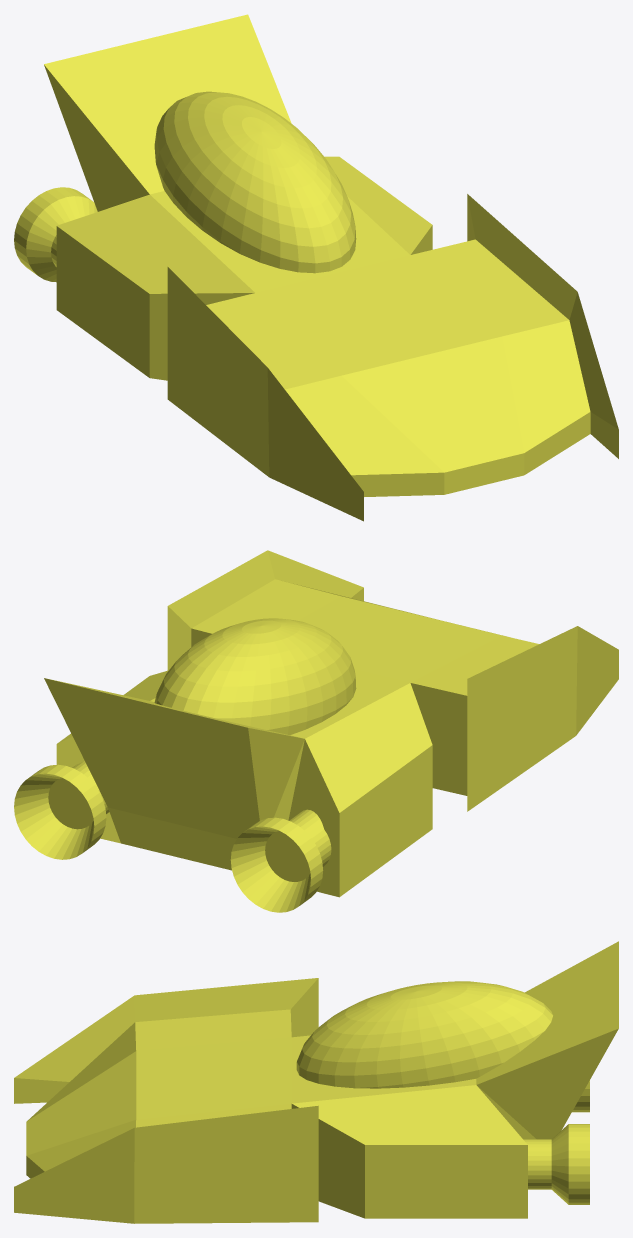
File: AW_car_second.fbx
The picture shows the model from 3 angles, top to bottom: view 1: azimuth 30°, elevation 25°; view 2: azimuth 150°, elevation 25°; view 3: azimuth 270°, elevation 25°; orthographic projection. The views are drawn at different scales.
Visible parts, largest first — view 1: Cube; view 2: Cube; view 3: Cube.
Part boxes in pixels (x1,y1,x2,y2): Cube: (14,14,618,521); Cube: (14,550,618,912); Cube: (14,941,618,1223).
Bounding box in the file's own units: 1.24 × 0.7572 × 2.39.
